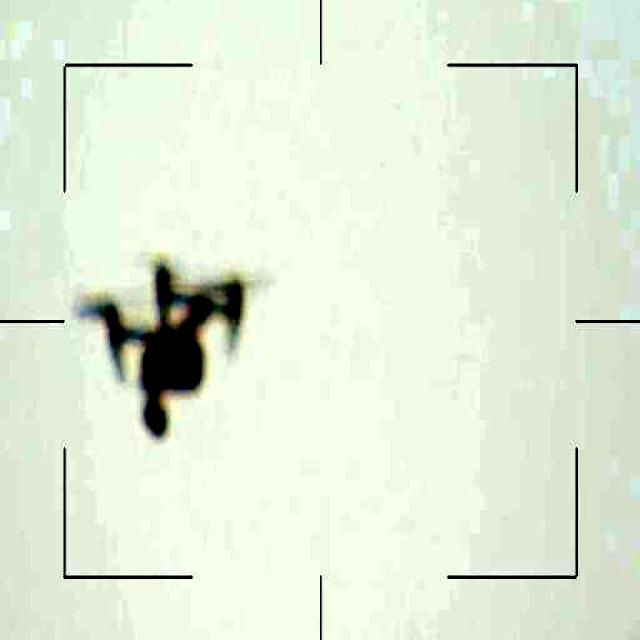bird: (66, 260, 250, 435)
